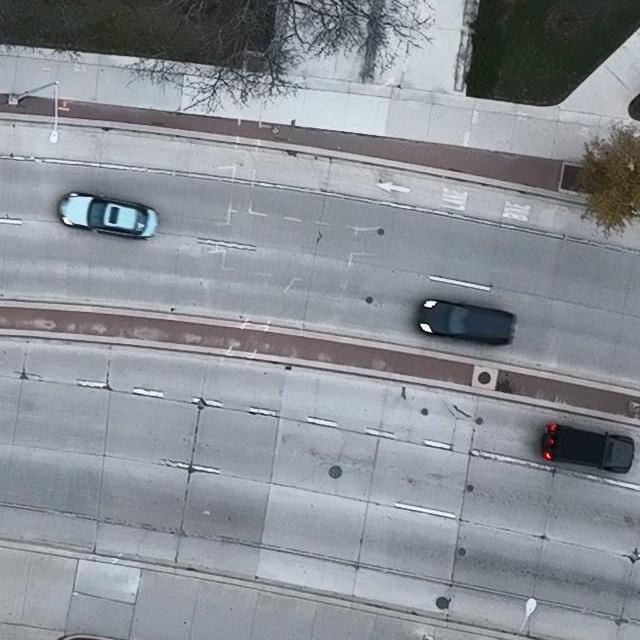car: (58, 191, 158, 239), (542, 422, 635, 472), (417, 298, 512, 344)
